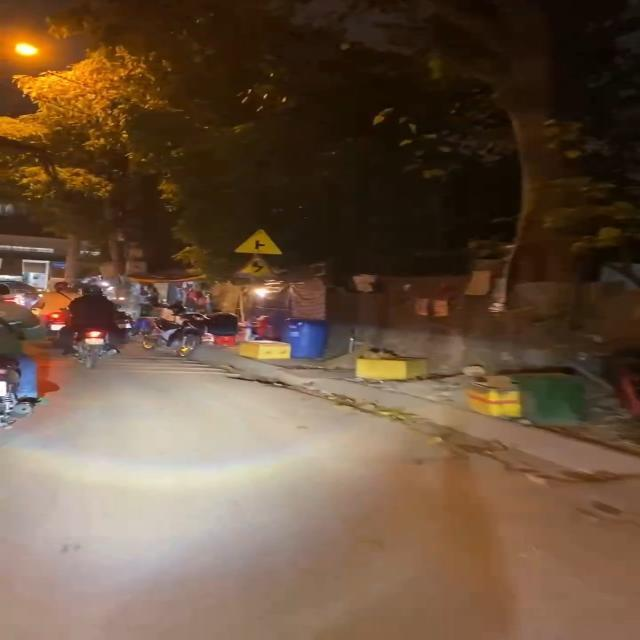201-cho-ngoat-nguy-hiem: (234, 256, 275, 276)
205-duong-giao-nhau: (234, 227, 283, 256)
